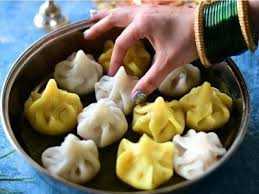modak: (174, 120, 231, 186), (44, 132, 111, 186), (29, 74, 89, 134), (75, 95, 136, 149), (115, 135, 173, 186), (182, 81, 239, 128), (131, 94, 186, 142), (87, 71, 151, 111), (57, 50, 106, 94)
